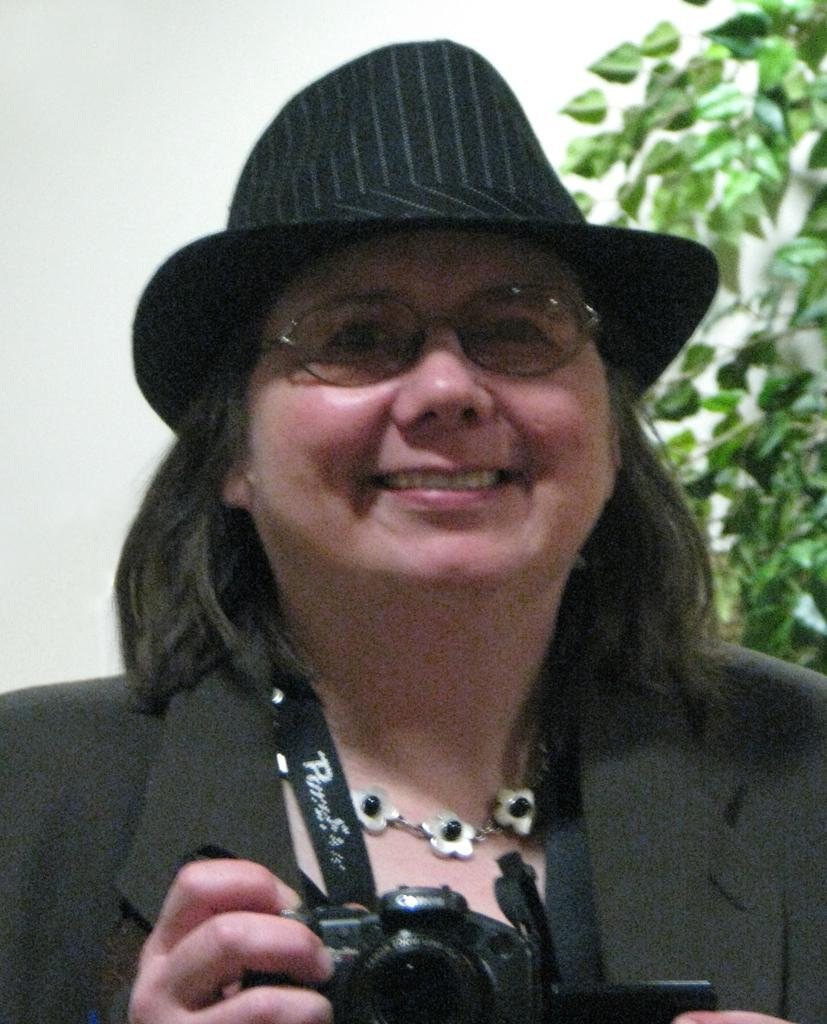Hat: (129, 38, 720, 436)
